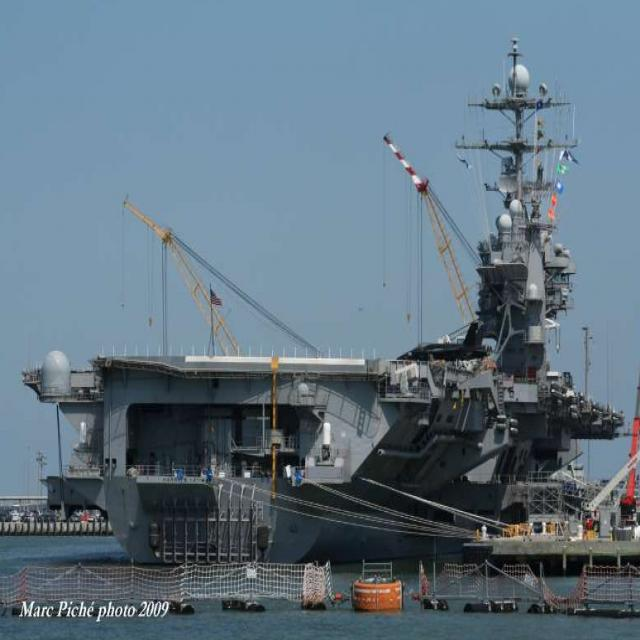Portanaves: (23, 36, 626, 575)
